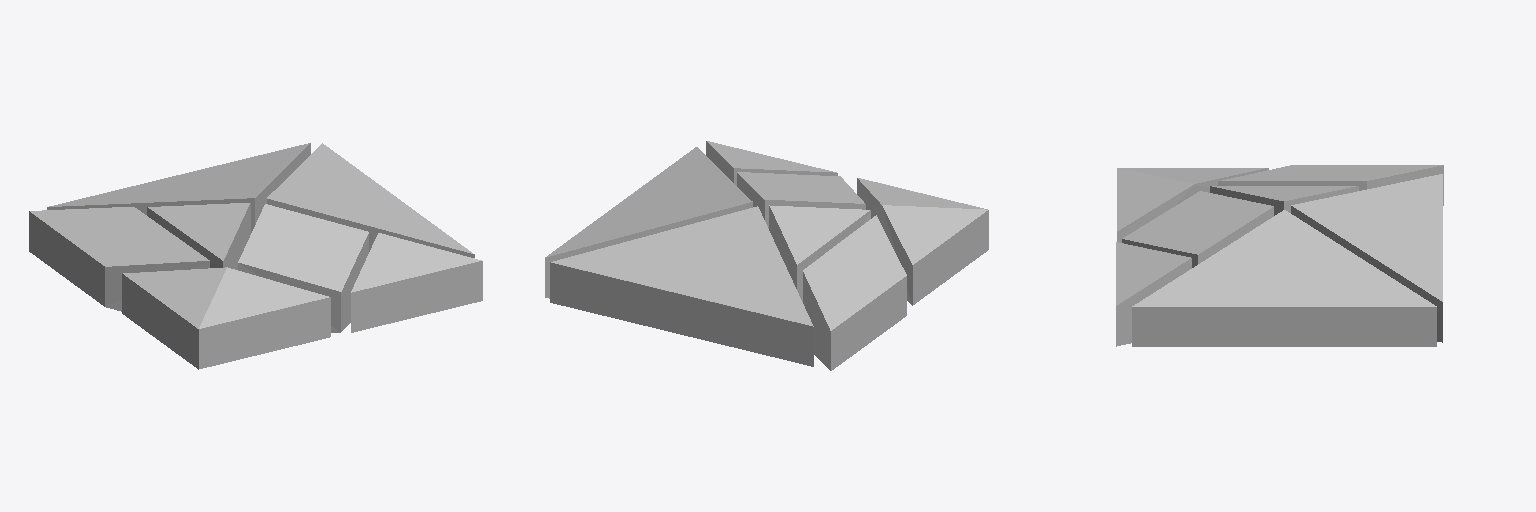
File: Pickagram.obj
The picture shows the model from 3 angles: view 1: azimuth 30°, elevation 25°; view 2: azimuth 150°, elevation 25°; view 3: azimuth 270°, elevation 25°; orthographic projection.
Visible parts, largest first — view 1: MiniTriangle1, Parallelogram, Cube1, MiniTriangle3, MajorTriangle1, MajorTriangle2, MiniTriangle2; view 2: MajorTriangle2, Parallelogram, MiniTriangle1, MajorTriangle1, MiniTriangle2, Cube1, MiniTriangle3; view 3: MajorTriangle1, MajorTriangle2, Cube1, MiniTriangle1, Parallelogram, MiniTriangle3, MiniTriangle2.
Boxes of the visible parts, <box> form: MiniTriangle1: <box>122,267,330,369</box>; Parallelogram: <box>29,207,209,311</box>; Cube1: <box>238,204,368,332</box>; MiniTriangle3: <box>351,233,482,332</box>; MajorTriangle1: <box>267,143,474,257</box>; MajorTriangle2: <box>47,143,310,232</box>; MiniTriangle2: <box>147,203,250,269</box>; MajorTriangle2: <box>550,206,813,366</box>; Parallelogram: <box>803,215,906,370</box>; MiniTriangle1: <box>857,178,988,305</box>; MajorTriangle1: <box>545,147,752,298</box>; MiniTriangle2: <box>769,205,870,301</box>; Cube1: <box>737,172,865,228</box>; MiniTriangle3: <box>706,141,837,185</box>; MajorTriangle1: <box>1132,210,1436,346</box>; MajorTriangle2: <box>1291,174,1442,342</box>; Cube1: <box>1122,191,1273,267</box>; MiniTriangle1: <box>1117,168,1268,242</box>; Parallelogram: <box>1217,165,1443,205</box>; MiniTriangle3: <box>1116,242,1191,346</box>; MiniTriangle2: <box>1210,186,1358,215</box>.
Bounding box in the file's own units: 1.95 × 0.68 × 1.92.